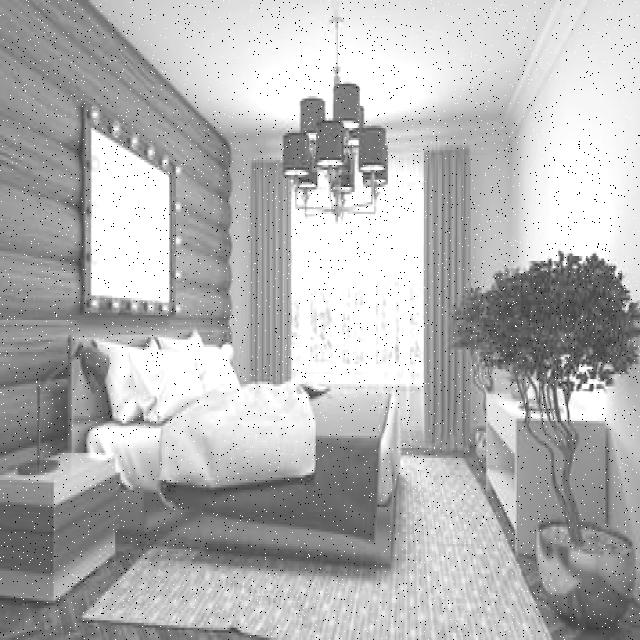bed: (100, 320, 398, 554)
